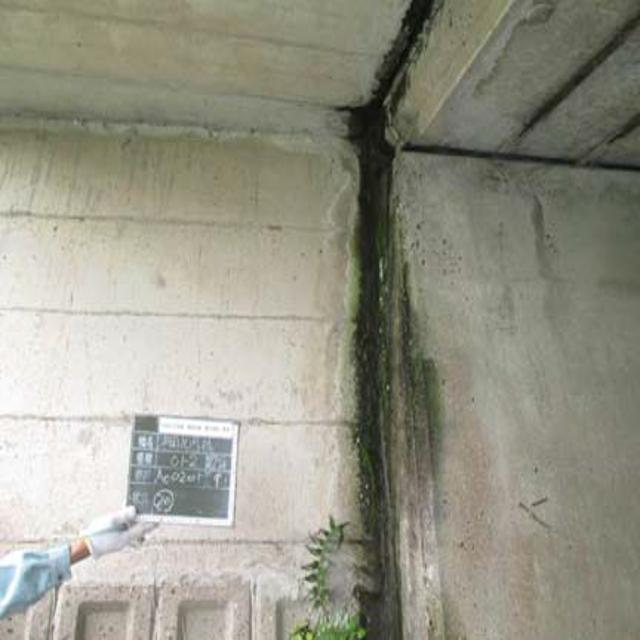leakage: (332, 15, 455, 640)
